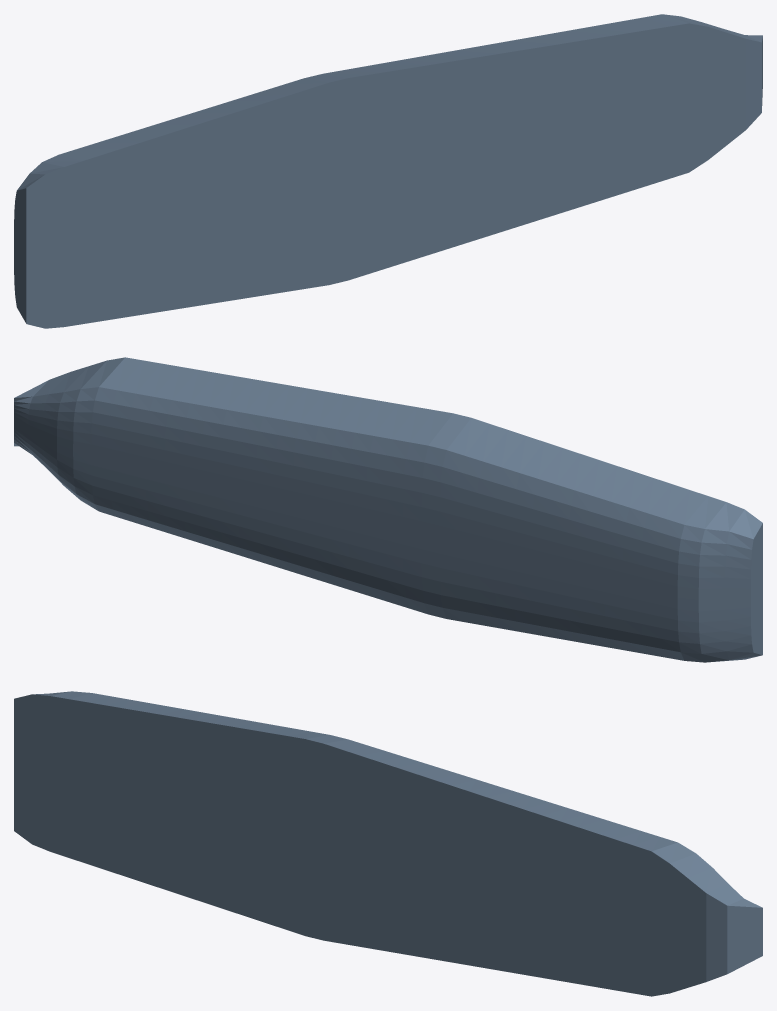
The model's file is open-loft.glb.
The picture shows the model from 3 angles, top to bottom: view 1: azimuth 30°, elevation 25°; view 2: azimuth 150°, elevation 25°; view 3: azimuth 330°, elevation 25°; orthographic projection. The views are drawn at different scales.
Parts seen in each view (by area): view 1: open; view 2: open; view 3: open.
Part boxes in pixels (x1=…): open: x1=14, y1=14, x2=762, y2=328; open: x1=14, y1=357, x2=762, y2=662; open: x1=14, y1=691, x2=762, y2=996.
Size of the model in its own units: 1.7 by 0.4369 by 0.1375.
